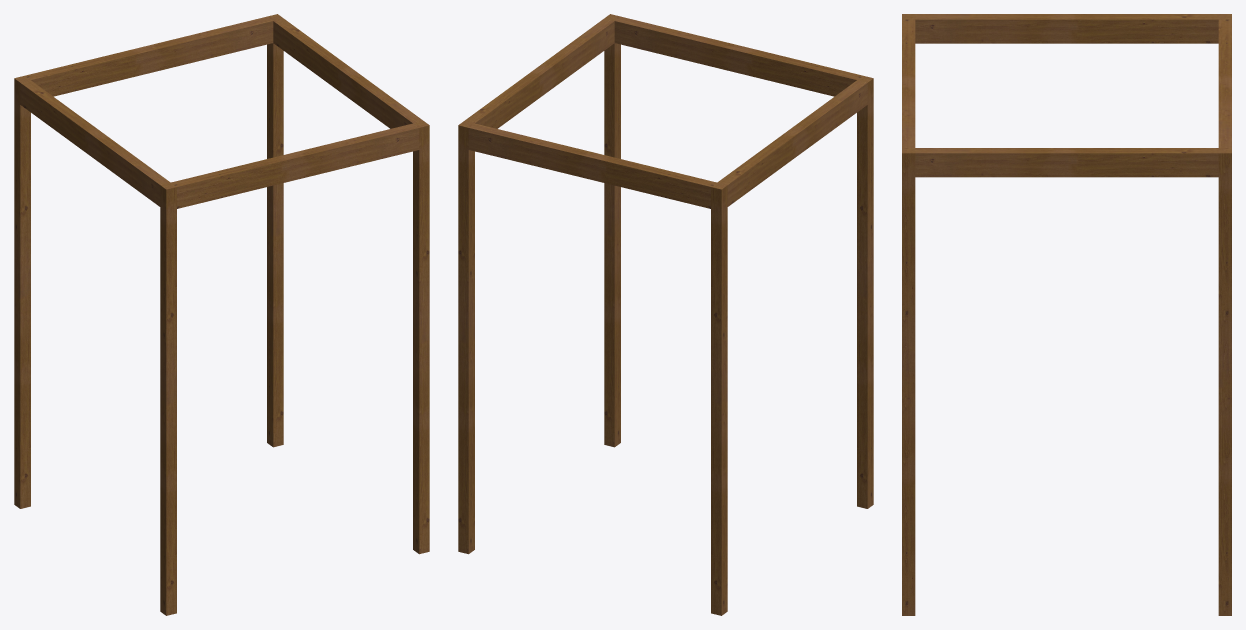
The model's file is fp-dokurtu_1k-6s_naturalpine.fbx.
3 renders of one model, left to right at view 1: azimuth 30°, elevation 25°; view 2: azimuth 150°, elevation 25°; view 3: azimuth 270°, elevation 25°, orthographic. The views are drawn at different scales.
Visible parts, largest first — view 1: fp-dokurtu_1k-6s_naturalpine; view 2: fp-dokurtu_1k-6s_naturalpine; view 3: fp-dokurtu_1k-6s_naturalpine.
Part boxes in pixels (left/top/right/bottom): fp-dokurtu_1k-6s_naturalpine: left=14, top=14, right=429, bottom=615; fp-dokurtu_1k-6s_naturalpine: left=458, top=14, right=873, bottom=615; fp-dokurtu_1k-6s_naturalpine: left=902, top=14, right=1231, bottom=615.
Bounding box in the file's own units: 187 × 290 × 187.
Materials: 1 (1 with a texture image).
